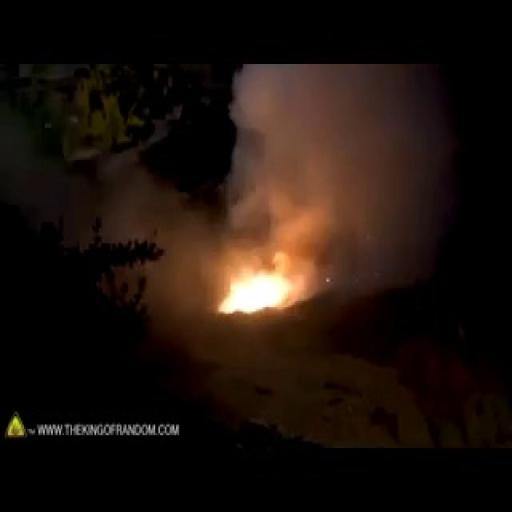smoke: (210, 211, 323, 318)
